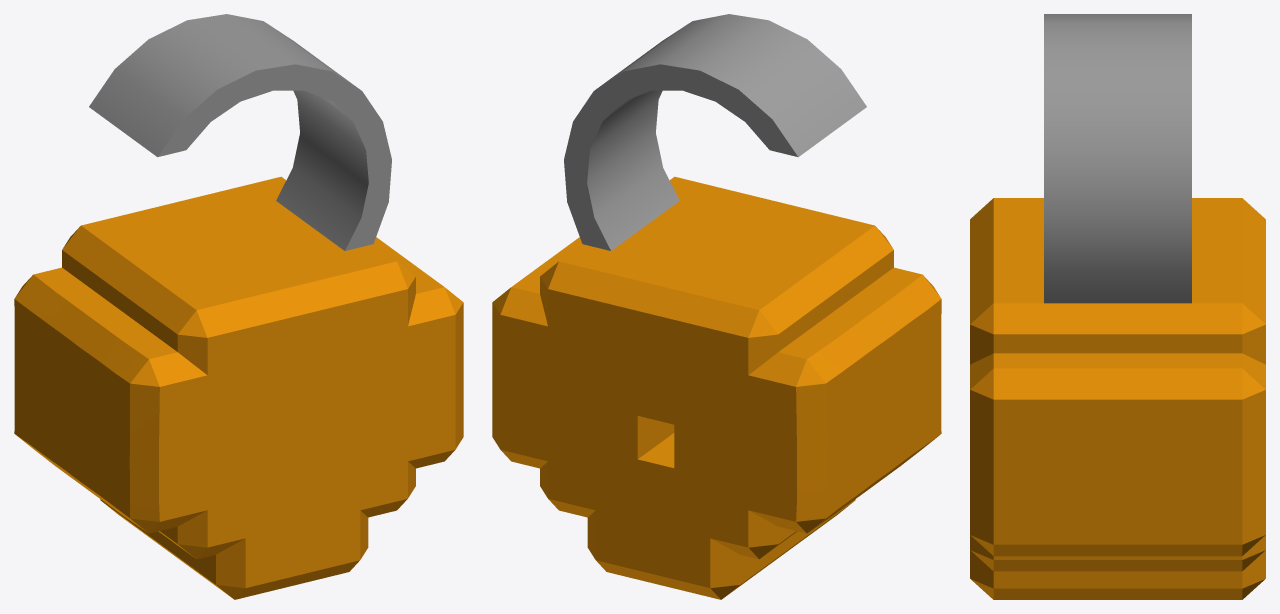
Rendered from Lock_Open_Orange.fbx.
The picture shows the model from 3 angles, left to right: view 1: azimuth 30°, elevation 25°; view 2: azimuth 150°, elevation 25°; view 3: azimuth 270°, elevation 25°; orthographic projection. The views are drawn at different scales.
Visible parts, largest first — view 1: Lock_Open_Orange; view 2: Lock_Open_Orange; view 3: Lock_Open_Orange.
Part boxes in pixels (bbox=[...]): Lock_Open_Orange: bbox=[14, 14, 463, 599]; Lock_Open_Orange: bbox=[492, 14, 941, 599]; Lock_Open_Orange: bbox=[970, 14, 1265, 599].
Size of the model in its own units: 7 by 10.06 by 5.
